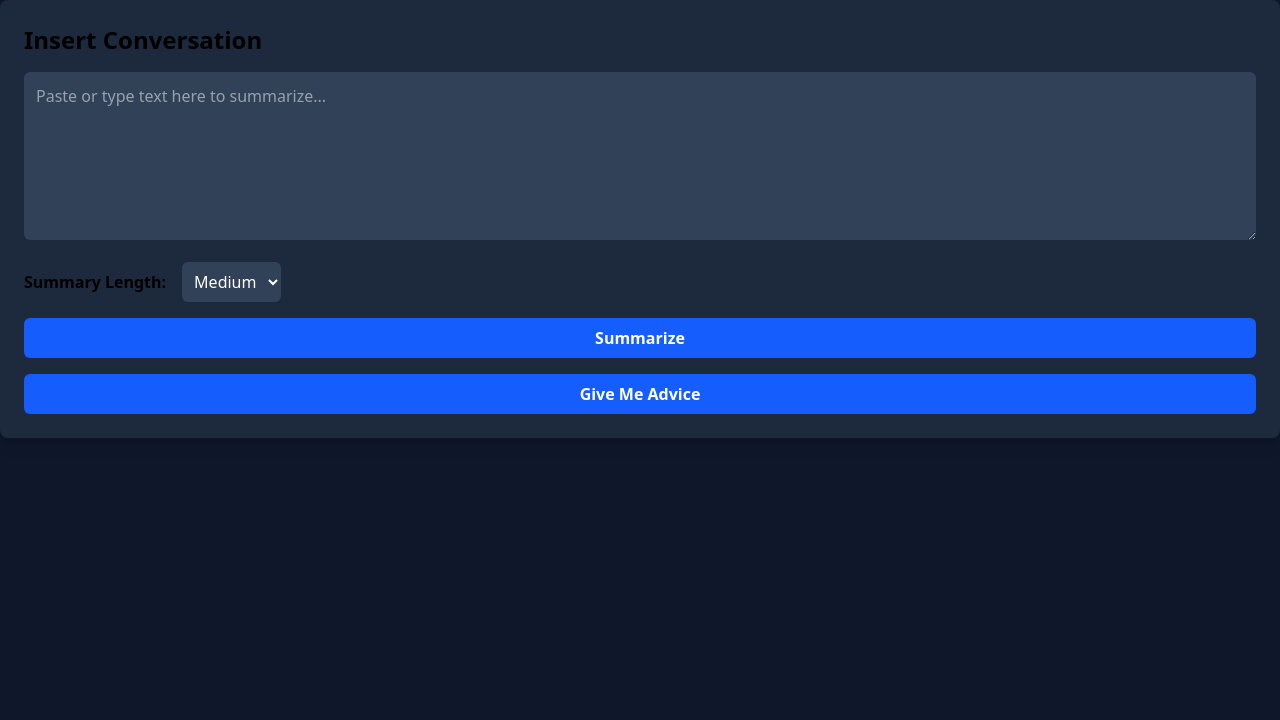
Summarizer Component › fetches and displays advice on success
The width and height of the screenshot is (1280, 720).
Type "Some text" into the text box with placeholder "Paste or type text here to summarize...".
click(640, 156); type("Some text")  # box 24,72 -> 1256,240
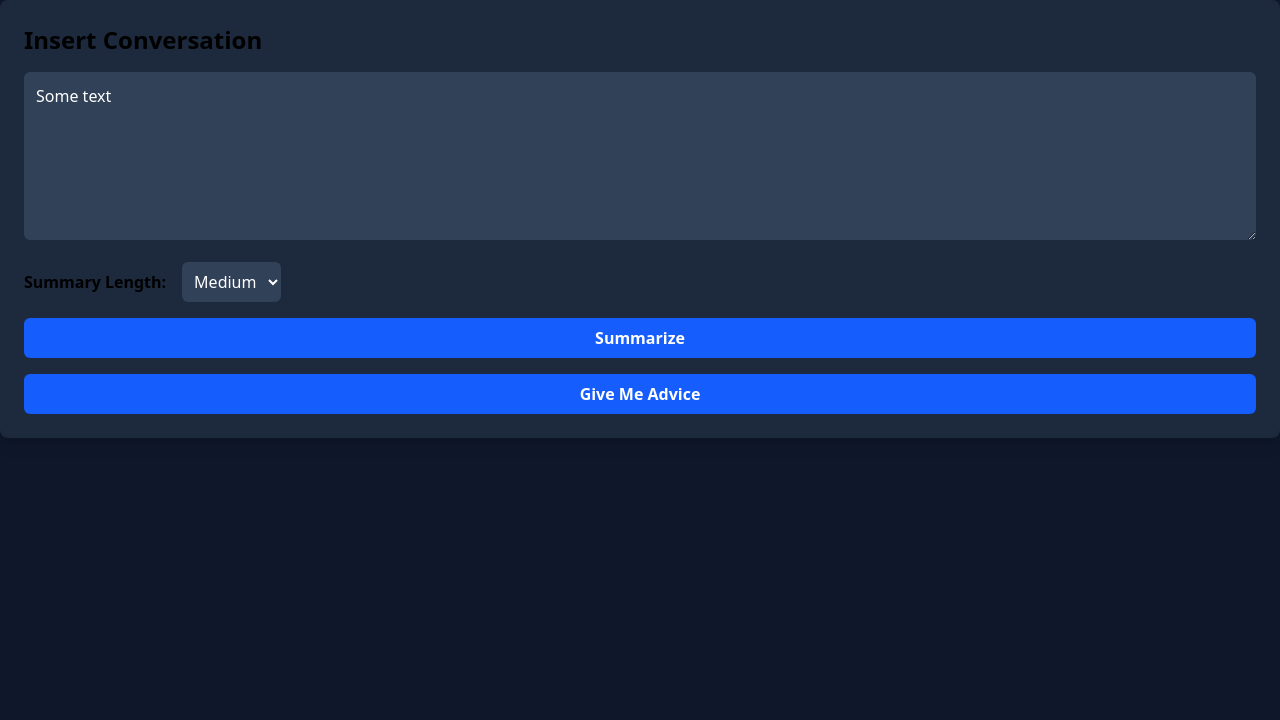
Click the button "Give Me Advice".
click(640, 394)  # box 24,374 -> 1256,414
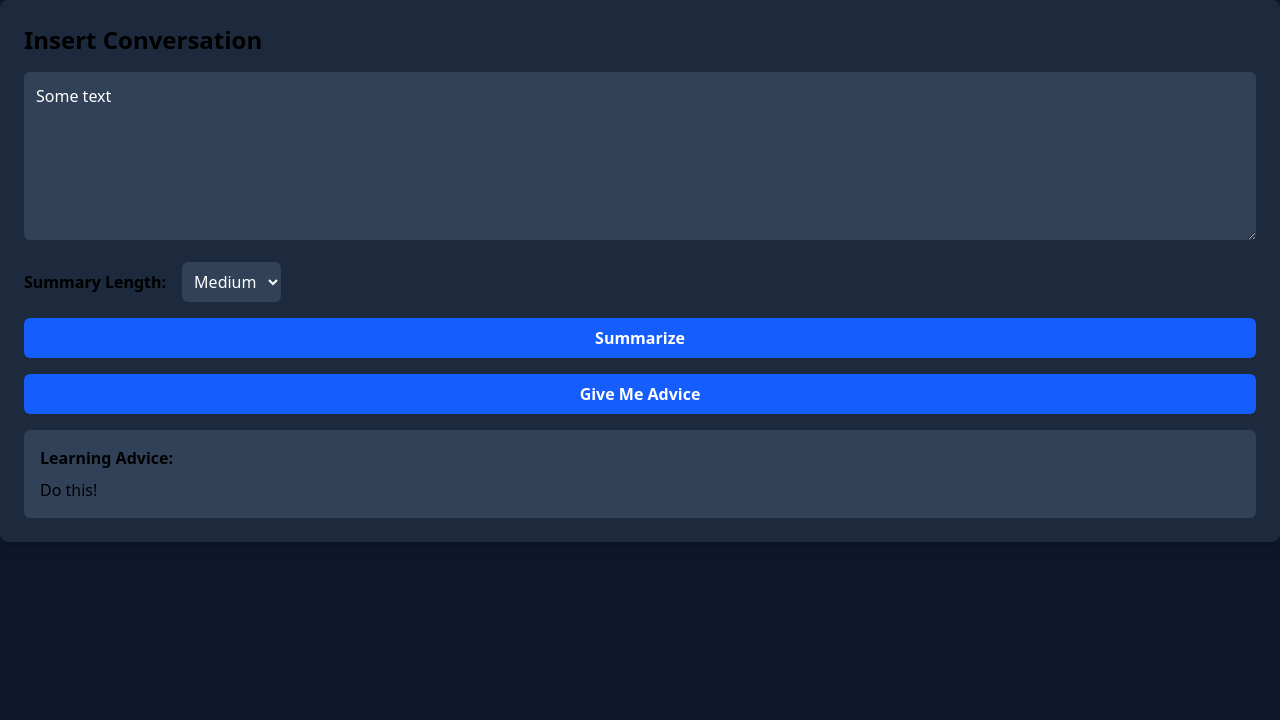
Expected: the text "Do this!" is shown, 40,479 -> 97,501
